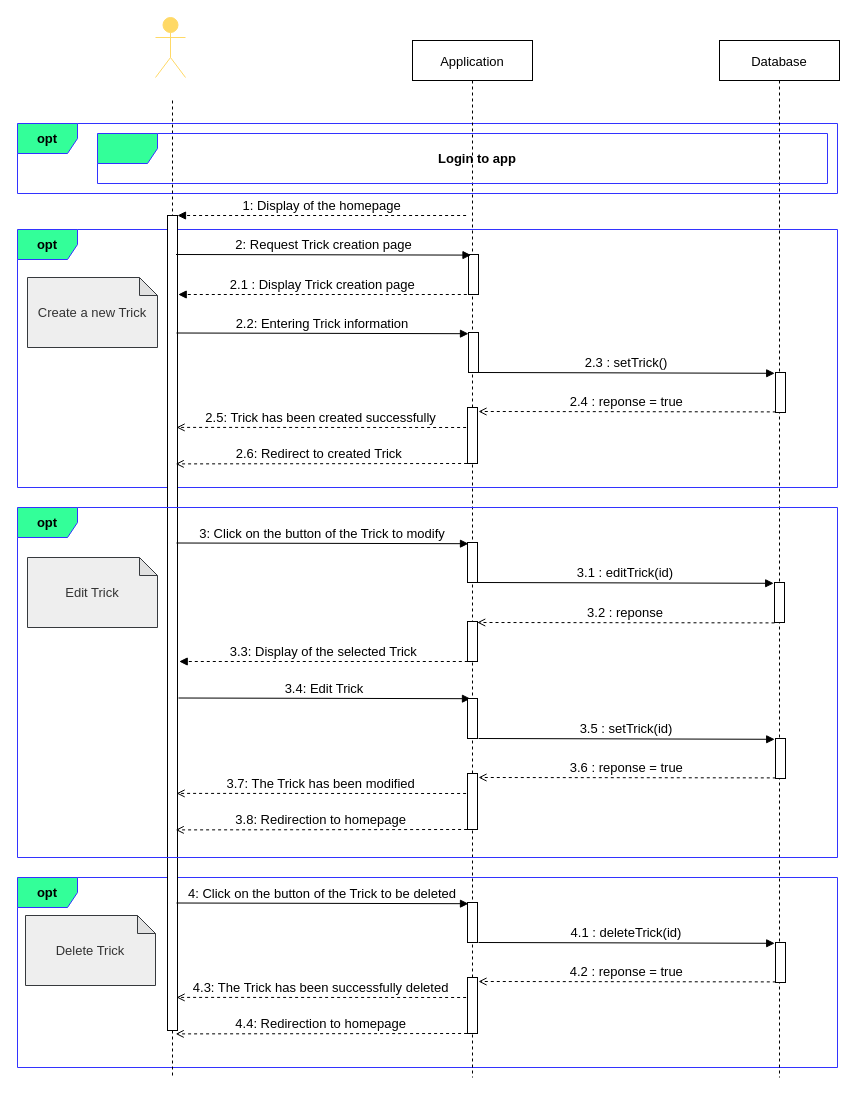
Some shapes in this 857 by 1095 pixel diagram are drawn without their labels. Each missing label, with the box of its shape:
:User: (154, 16, 186, 78)
ref: (96, 132, 828, 184)
